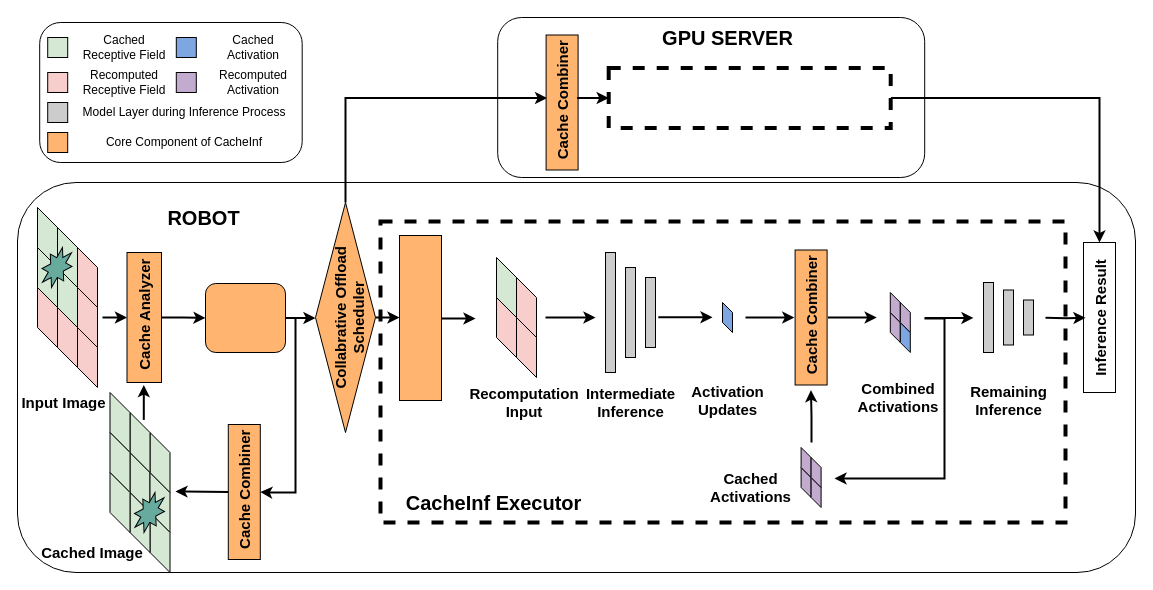
This 1153x590 diagram has some shape labels left out. The shapes that lost their labels are listed below. From the top down, each one's box as (x1, y1, x2, y2) in pixels, then its label:
(606, 66, 892, 130): CacheInf Executor
(204, 282, 286, 352): CacheInf Metadata
(398, 234, 442, 400): Recomputation Input Constructor
